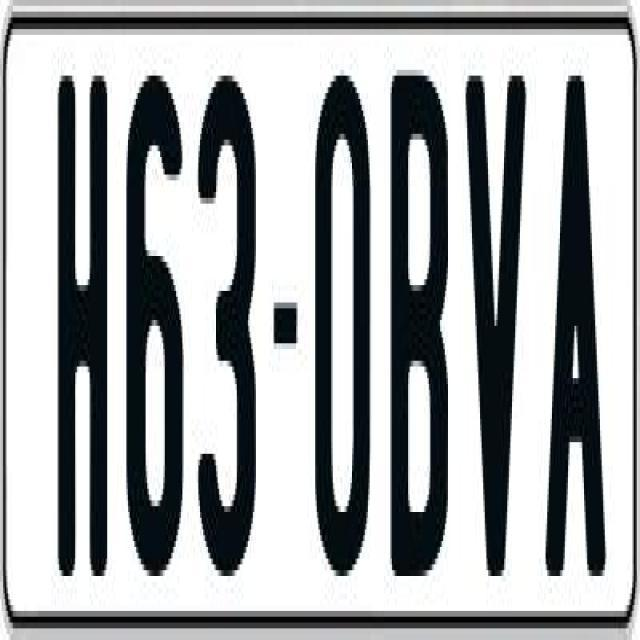0: (312, 58, 371, 559)
3: (196, 64, 258, 588)
6: (126, 58, 190, 588)
A: (546, 58, 610, 582)
B: (391, 70, 452, 588)
H: (55, 64, 112, 570)
V: (466, 58, 532, 559)
